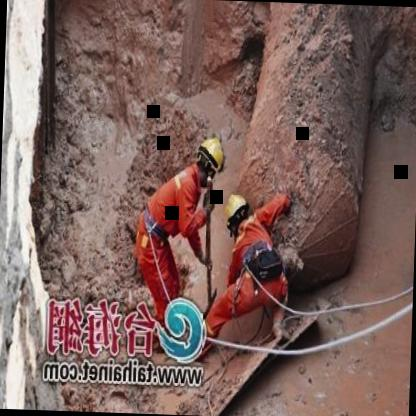helmet: (193, 132, 228, 188), (220, 190, 255, 237)
